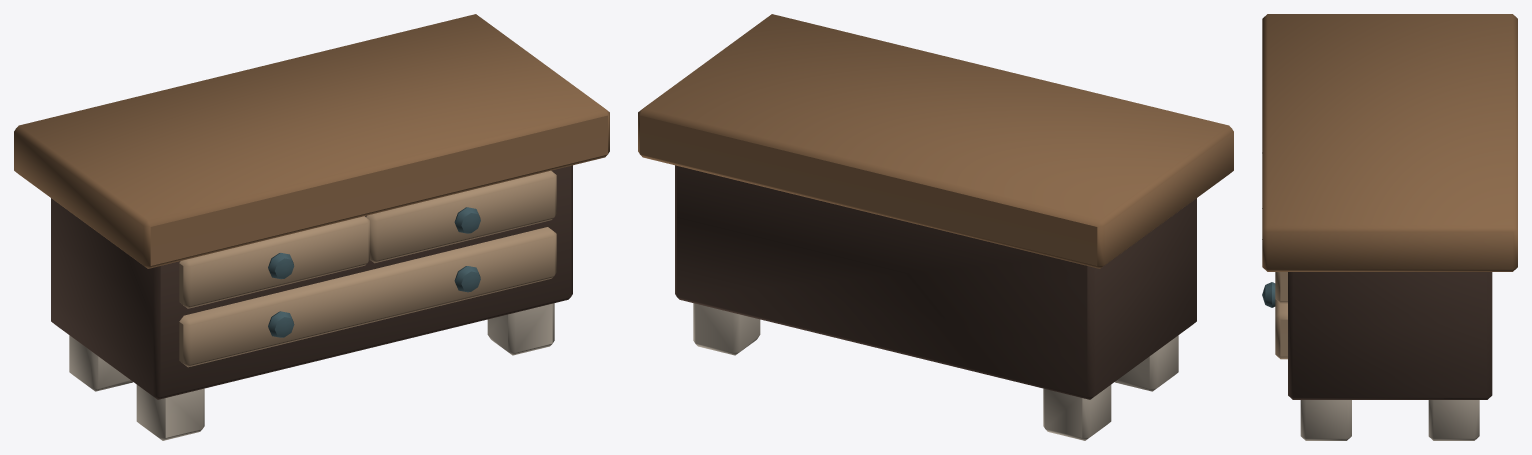
Rendered from cabinet_medium.obj.
3 views of the same model, side by side, from view 1: azimuth 30°, elevation 25°; view 2: azimuth 150°, elevation 25°; view 3: azimuth 270°, elevation 25° (orthographic). The views are drawn at different scales.
Parts seen in each view (by area): view 1: cabinet_medium_Cube.012; view 2: cabinet_medium_Cube.012; view 3: cabinet_medium_Cube.012.
Part boxes in pixels (bbox=[...]): cabinet_medium_Cube.012: bbox=[14, 14, 609, 440]; cabinet_medium_Cube.012: bbox=[638, 14, 1233, 440]; cabinet_medium_Cube.012: bbox=[1262, 14, 1517, 440].
Size of the model in its own units: 2 by 1 by 1.
Materials: 1 (1 with a texture image).
